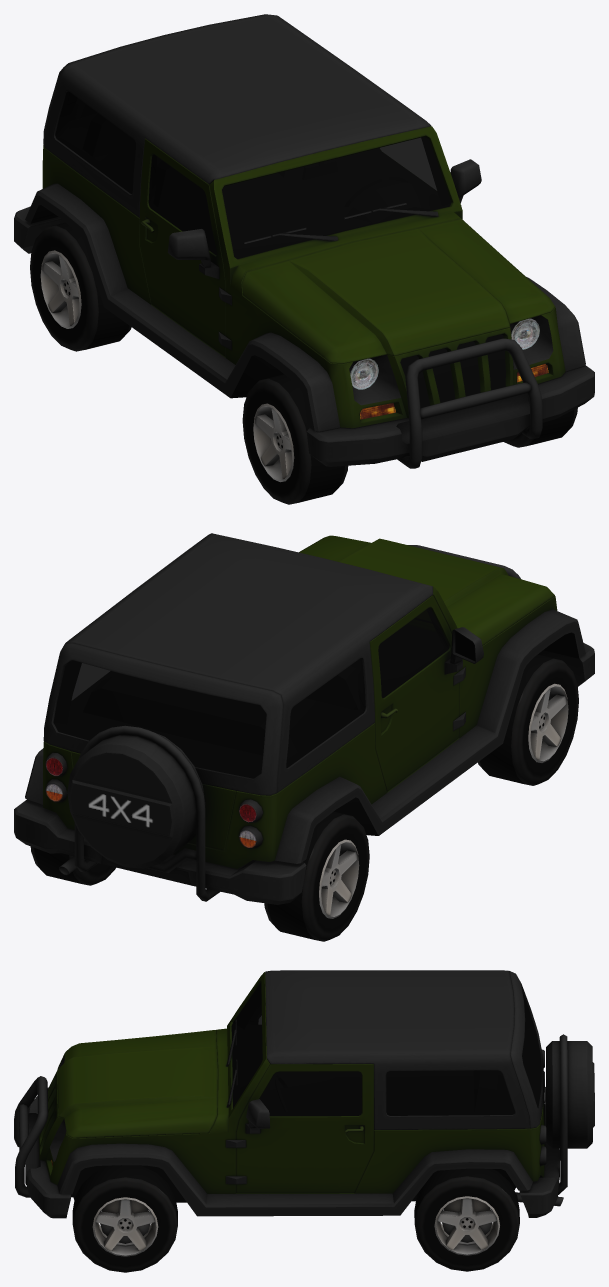
Rendered from car3.glb.
3 renders of one model, top to bottom at view 1: azimuth 30°, elevation 25°; view 2: azimuth 150°, elevation 25°; view 3: azimuth 270°, elevation 25°, orthographic. The views are drawn at different scales.
Visible parts, largest first — view 1: Offroad Body, front_wheels, rear_wheels; view 2: Offroad Body, rear_wheels, front_wheels; view 3: Offroad Body, front_wheels, rear_wheels.
Boxes of the visible parts, x1=… form: Offroad Body: x1=14, y1=14, x2=594, y2=468; front_wheels: x1=242, y1=374, x2=577, y2=504; rear_wheels: x1=30, y1=222, x2=131, y2=351; Offroad Body: x1=14, y1=533, x2=594, y2=904; rear_wheels: x1=30, y1=811, x2=369, y2=941; front_wheels: x1=478, y1=654, x2=578, y2=785; Offroad Body: x1=14, y1=970, x2=594, y2=1218; front_wheels: x1=72, y1=1165, x2=177, y2=1272; rear_wheels: x1=414, y1=1168, x2=519, y2=1271.
Bounding box in the file's own units: 1.96 × 1.57 × 3.94.
Materials: 4 (3 with a texture image).
